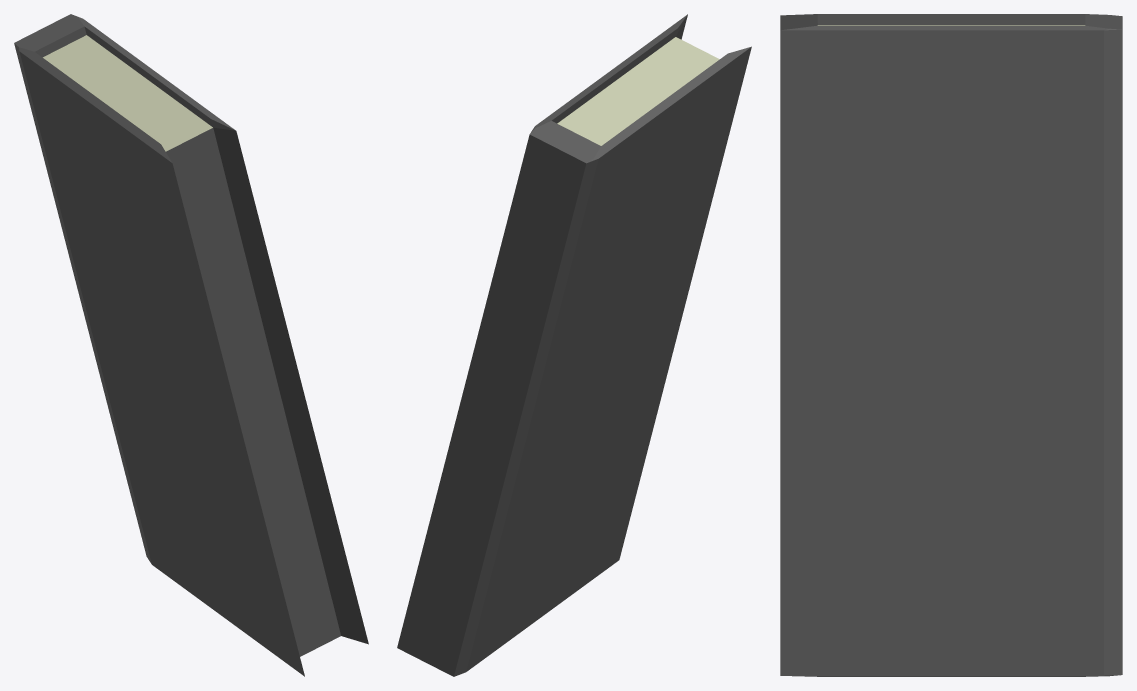
Rendered from Book3_Material.fbx.
3 views of the same model, side by side, from view 1: azimuth 30°, elevation 25°; view 2: azimuth 150°, elevation 25°; view 3: azimuth 270°, elevation 25° (orthographic). The views are drawn at different scales.
Parts seen in each view (by area): view 1: Book.007; view 2: Book.007; view 3: Book.007.
Boxes of the visible parts, x1,y1,x2,y2 form: Book.007: [14, 14, 368, 676]; Book.007: [397, 14, 751, 676]; Book.007: [780, 14, 1122, 676].
Size of the model in its own units: 0.072 by 0.1978 by 0.103.
